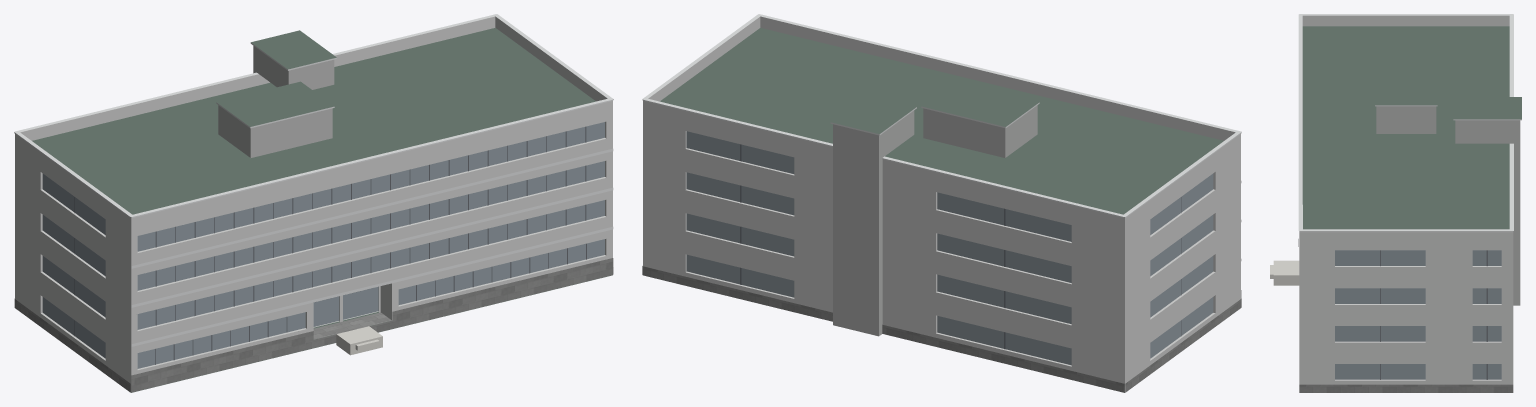
3 views of the same model, side by side, from view 1: azimuth 30°, elevation 25°; view 2: azimuth 150°, elevation 25°; view 3: azimuth 270°, elevation 25° (orthographic). The views are drawn at different scales.
Visible parts, largest first — view 1: b40__wall, b40__roof, b40__glass, b40__parapet, b40__trim, b40__base, b40__wall2, b40__frame, b40__entranceStair; view 2: b40__wall, b40__roof, b40__glass, b40__wall2, b40__parapet, b40__base, b40__trim; view 3: b40__roof, b40__wall, b40__glass, b40__parapet, b40__wall2, b40__trim, b40__base, b40__entranceStair.
Boxes of the visible parts, x1,y1,x2,y2 form: b40__wall: [15, 110, 612, 392]; b40__roof: [32, 28, 610, 392]; b40__glass: [42, 122, 604, 368]; b40__parapet: [15, 16, 612, 227]; b40__trim: [14, 14, 613, 346]; b40__base: [14, 258, 613, 392]; b40__wall2: [218, 46, 334, 157]; b40__frame: [74, 126, 586, 364]; b40__entranceStair: [336, 326, 382, 355]; b40__wall: [643, 110, 1240, 392]; b40__roof: [660, 28, 1223, 214]; b40__glass: [686, 131, 1213, 365]; b40__wall2: [833, 105, 1037, 336]; b40__parapet: [643, 16, 1240, 227]; b40__base: [642, 266, 1241, 392]; b40__trim: [642, 14, 1241, 260]; b40__roof: [1302, 26, 1521, 229]; b40__wall: [1299, 241, 1513, 384]; b40__glass: [1335, 250, 1501, 379]; b40__parapet: [1299, 15, 1513, 241]; b40__wall2: [1376, 106, 1520, 305]; b40__trim: [1298, 14, 1521, 232]; b40__base: [1298, 239, 1513, 392]; b40__entranceStair: [1270, 260, 1299, 285].
Bounding box in the file's own units: 44.26 × 18.01 × 21.7.
Materials: 10 (1 with a texture image).
